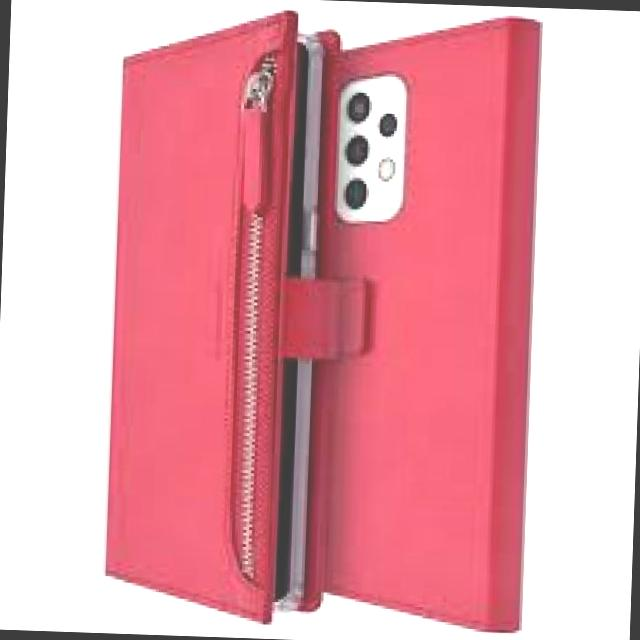lens_back: (343, 88, 374, 126), (340, 175, 370, 212), (342, 132, 372, 168), (376, 110, 399, 140)
